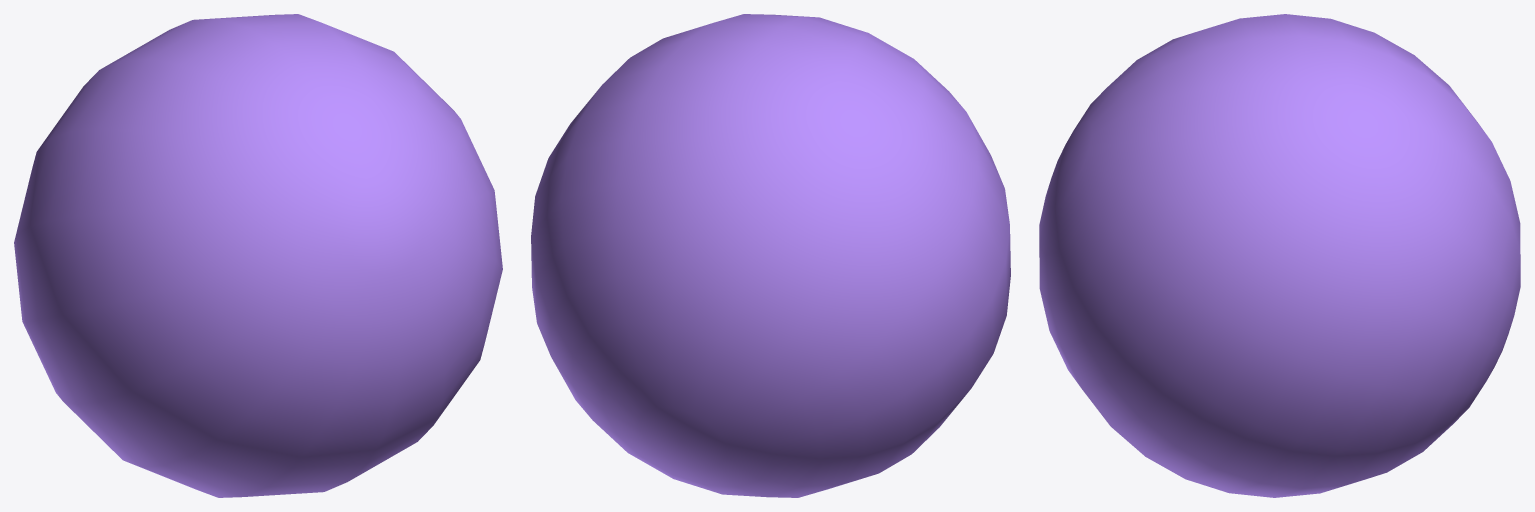
The picture shows the model from 3 angles, left to right: view 1: azimuth 30°, elevation 25°; view 2: azimuth 150°, elevation 25°; view 3: azimuth 270°, elevation 25°; orthographic projection.
Parts seen in each view (by area): view 1: orb5.010; view 2: orb5.010; view 3: orb5.010.
Part boxes in pixels (bbox=[...]): orb5.010: bbox=[14, 14, 502, 497]; orb5.010: bbox=[531, 14, 1010, 497]; orb5.010: bbox=[1039, 14, 1520, 497].
Size of the model in its own units: 0.3982 by 0.3984 by 0.3968.
